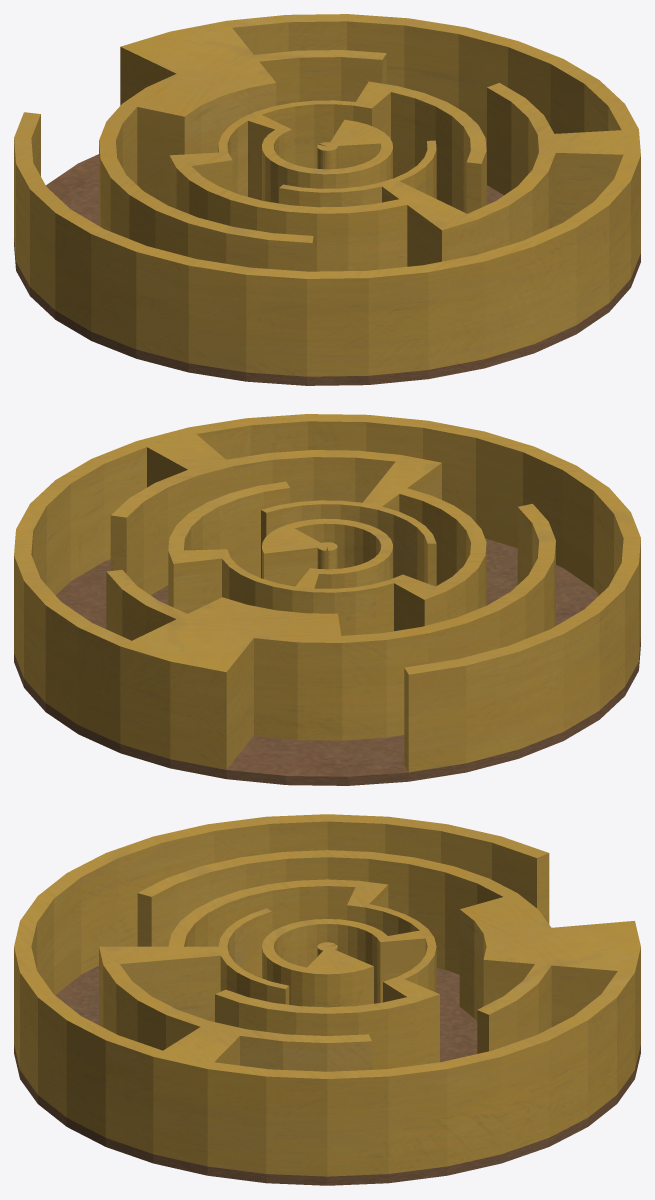
Rendered from LockPickHard.fbx.
3 renders of one model, top to bottom at view 1: azimuth 30°, elevation 25°; view 2: azimuth 150°, elevation 25°; view 3: azimuth 270°, elevation 25°, orthographic.
Visible parts, largest first — view 1: Cylinder; view 2: Cylinder; view 3: Cylinder.
Boxes of the visible parts, x1,y1,x2,y2 form: Cylinder: [14, 14, 640, 385]; Cylinder: [14, 414, 640, 785]; Cylinder: [14, 814, 640, 1185].
Size of the model in its own units: 9928 by 1864 by 9930.
